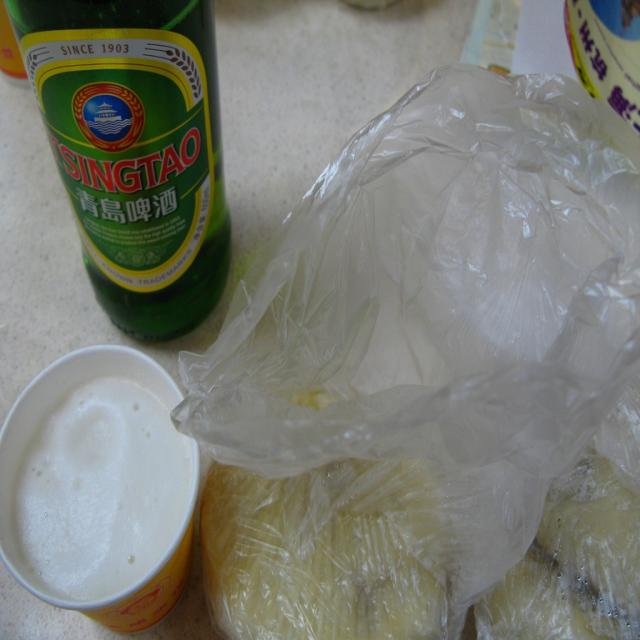tsingtao: (18, 29, 217, 294)
